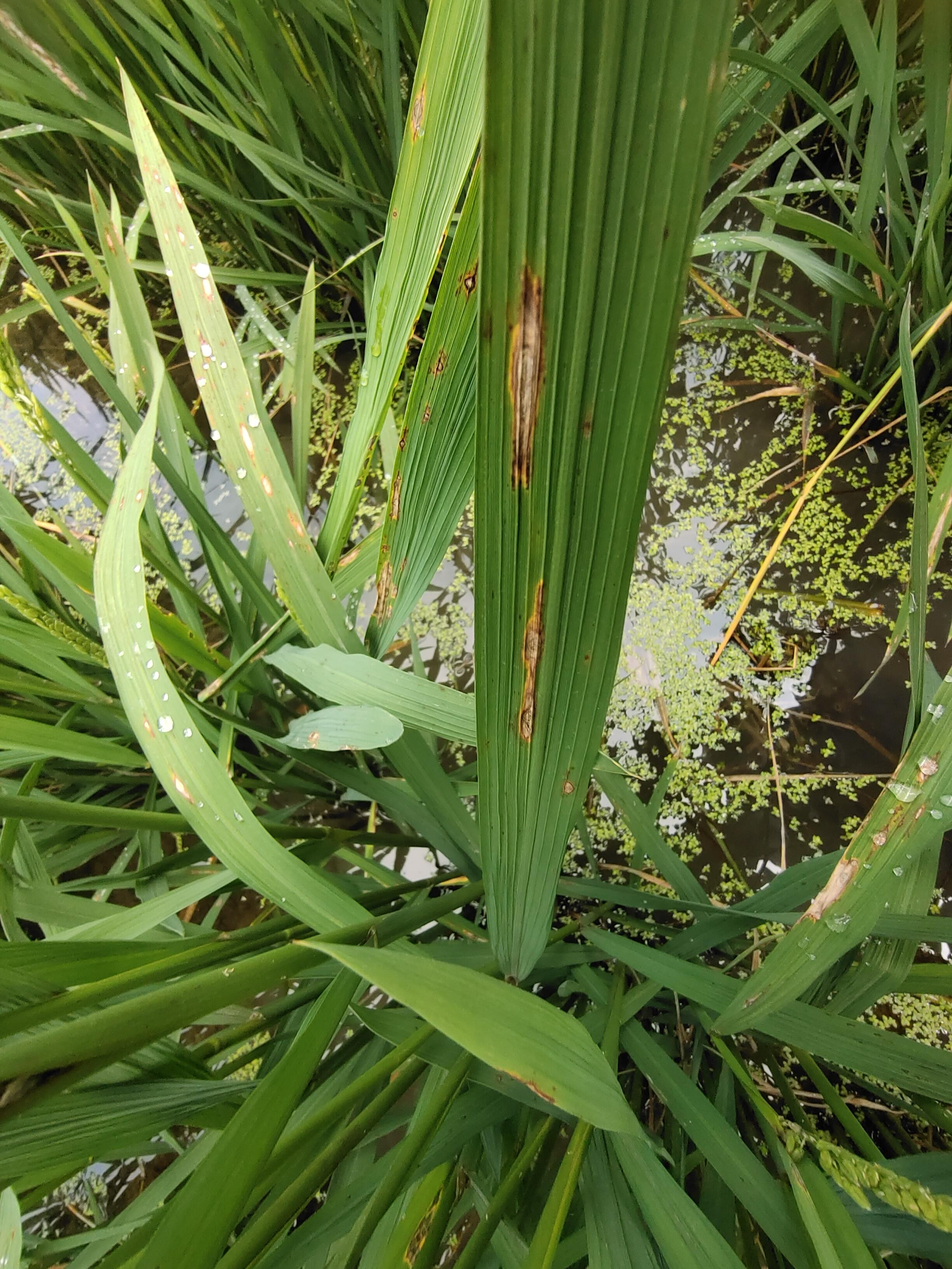LEAF BLAST: (509, 264, 544, 488), (519, 580, 544, 741), (562, 780, 574, 795)
